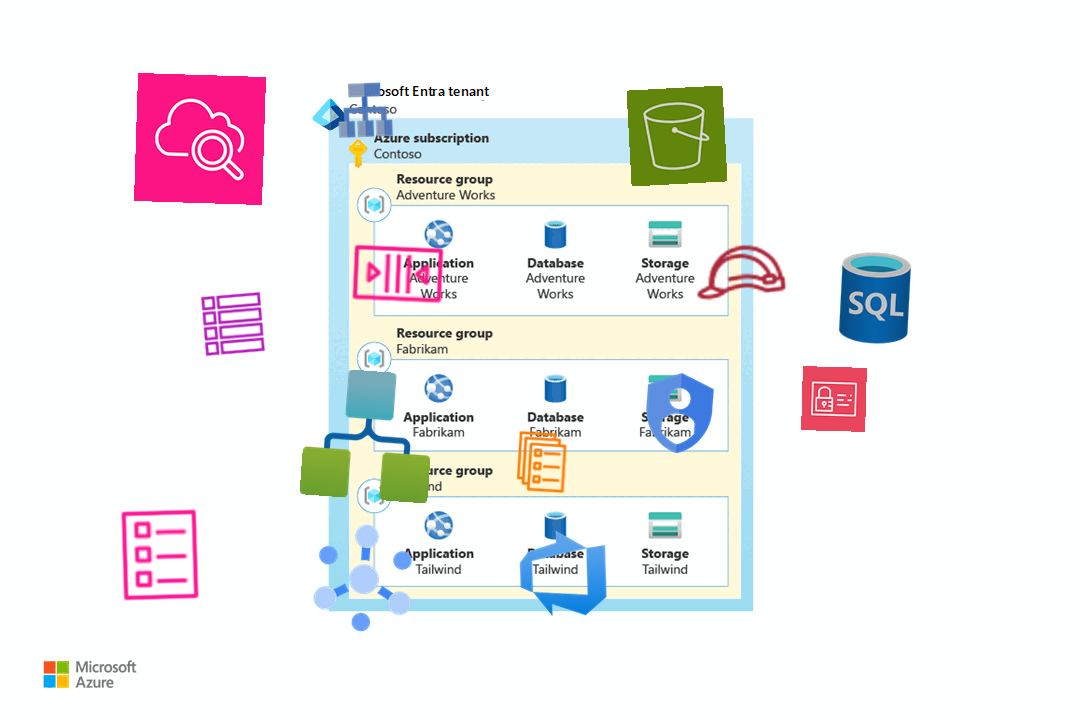aws_amazon_cloudwatch: (133, 72, 267, 206)
aws_amazon_simple_storage_service: (626, 85, 728, 187)
aws_cloudformation_template: (109, 505, 209, 605)
aws_dynamodb_table: (198, 289, 268, 359)
aws_elastic_container_service_service: (508, 428, 576, 496)
aws_identity_access_management_role: (688, 220, 792, 324)
aws_identity_and_access_management: (801, 366, 867, 432)
aws_simple_queue_service_queue: (347, 222, 449, 324)
azure_devops: (513, 523, 613, 623)
azure_logic_apps: (299, 366, 437, 504)
azure_sql_database: (824, 247, 926, 349)
gcp_cloud_load_balancing: (331, 76, 399, 144)
gcp_identity_and_access_management: (627, 361, 731, 465)
gcp_pubsub: (295, 509, 433, 647)
